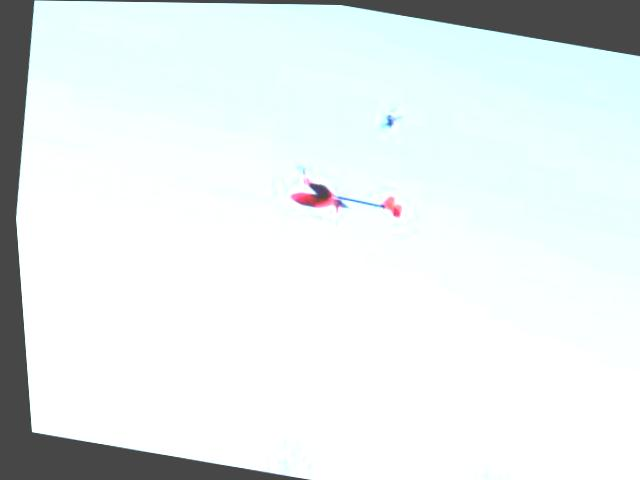uav: (264, 144, 420, 235)
